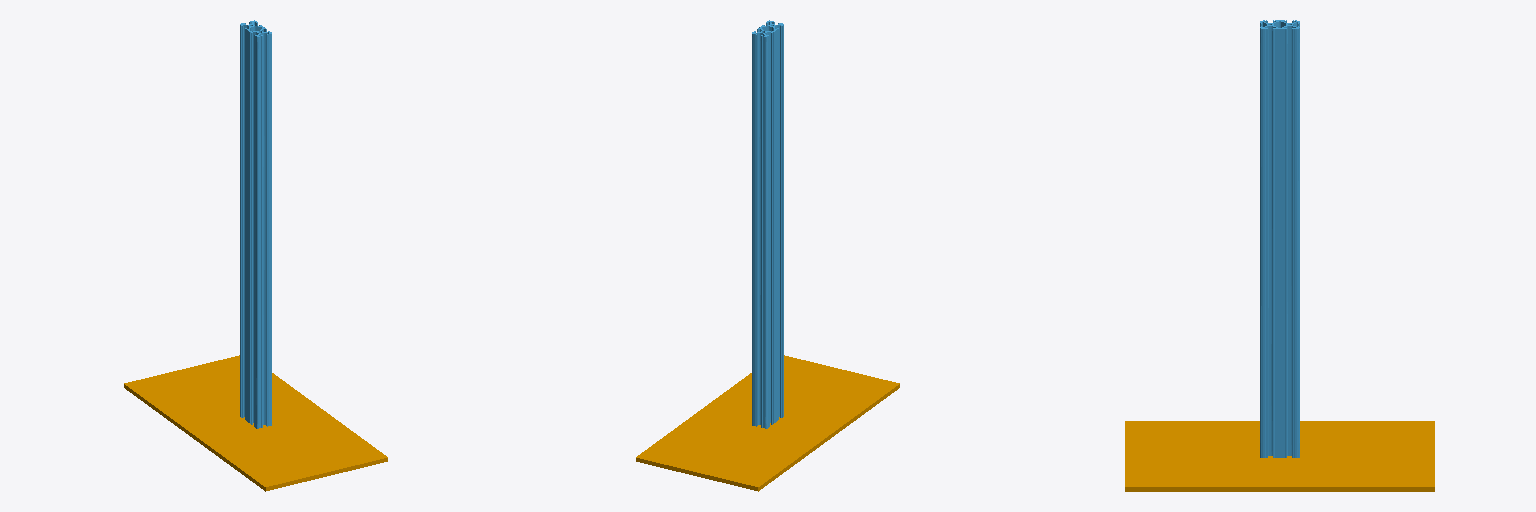
URDF robot description (single_leg_base):
<?xml version="1.0" ?>
<robot name="single_leg_base">

<material name="silver">
  <color rgba="0.700 0.700 0.700 1.000"/>
</material>

<link name="base_link">
  <inertial>
    <origin rpy="0 0 0" xyz="1.7903439011278123e-17 -0.012699999999999862 0.003175"/>
    <mass value="1.3715999999999993"/>
    <inertia ixx="0.018292608861749982" ixy="-3.929017111659051e-18" ixz="1.3935732567915642e-19" iyy="0.004576608861749992" iyz="-1.9244588561617704e-18" izz="0.022859999999999978"/>
  </inertial>
  <visual>
    <origin rpy="0 0 0" xyz="0 0 0"/>
    <geometry>
      <mesh filename="meshes/base_link.stl" scale="0.001 0.001 0.001"/>
    </geometry>
    <material name="silver"/>
    <material/>
  </visual>
  <collision>
    <origin rpy="0 0 0" xyz="0 0 0"/>
    <geometry>
      <mesh filename="meshes/base_link.stl" scale="0.001 0.001 0.001"/>
    </geometry>
  </collision>
</link>

<link name="L_rail1">
  <inertial>
    <origin rpy="0 0 0" xyz="7.651009513282154e-06 4.9259405251779464e-06 0.30480000000000057"/>
    <mass value="2.430260911584846"/>
    <inertia ixx="0.07587054220314907" ixy="-7.101633292682228e-07" ixz="-1.8553409676658195e-17" iyy="0.07542558287533979" iyz="8.153200337090993e-17" izz="0.0007770406255538394"/>
  </inertial>
  <visual>
    <origin rpy="0 0 0" xyz="0.0 0.0127 -0.00635"/>
    <geometry>
      <mesh filename="meshes/L_rail1.stl" scale="0.001 0.001 0.001"/>
    </geometry>
    <material name="silver"/>
    <material/>
  </visual>
  <collision>
    <origin rpy="0 0 0" xyz="0.0 0.0127 -0.00635"/>
    <geometry>
      <mesh filename="meshes/L_rail1.stl" scale="0.001 0.001 0.001"/>
    </geometry>
  </collision>
</link>

<joint name="J_R_base_rail" type="fixed">
  <origin rpy="0 0 0" xyz="0.0 -0.0127 0.00635"/>
  <parent link="base_link"/>
  <child link="L_rail1"/>
</joint>

</robot>

--- What the picture shows (computed from the rendered views, not written in the file) ---
Views: 3 orthographic renders of the robot side by side, from view 1: azimuth 30°, elevation 25°; view 2: azimuth 150°, elevation 25°; view 3: azimuth 270°, elevation 25°.
Robot: single_leg_base — 2 links, 1 joints (1 fixed); root link base_link; default pose: all joints at 0.
Links seen in each view (by area): view 1: base_link, L_rail1; view 2: base_link, L_rail1; view 3: base_link, L_rail1.
Link boxes in pixels (<box>): base_link: <box>124,355,387,491</box>; L_rail1: <box>240,20,271,428</box>; base_link: <box>636,355,899,491</box>; L_rail1: <box>752,20,783,428</box>; base_link: <box>1125,421,1434,491</box>; L_rail1: <box>1260,20,1299,457</box>.
Size in the robot's own frame: 0.2 by 0.4 by 0.6159 metres.
2 mesh visuals loaded from 2 distinct referenced files (2 binary STL).